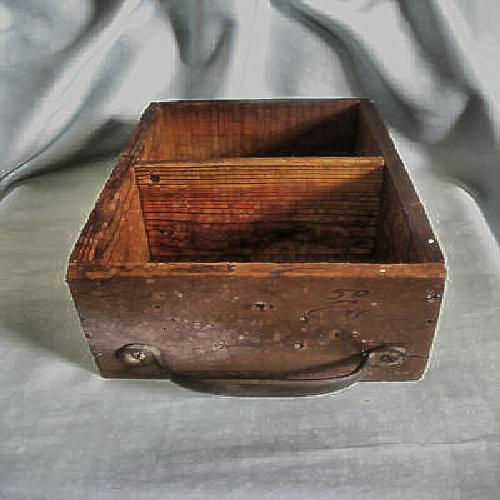cabinet: (76, 80, 446, 394)
